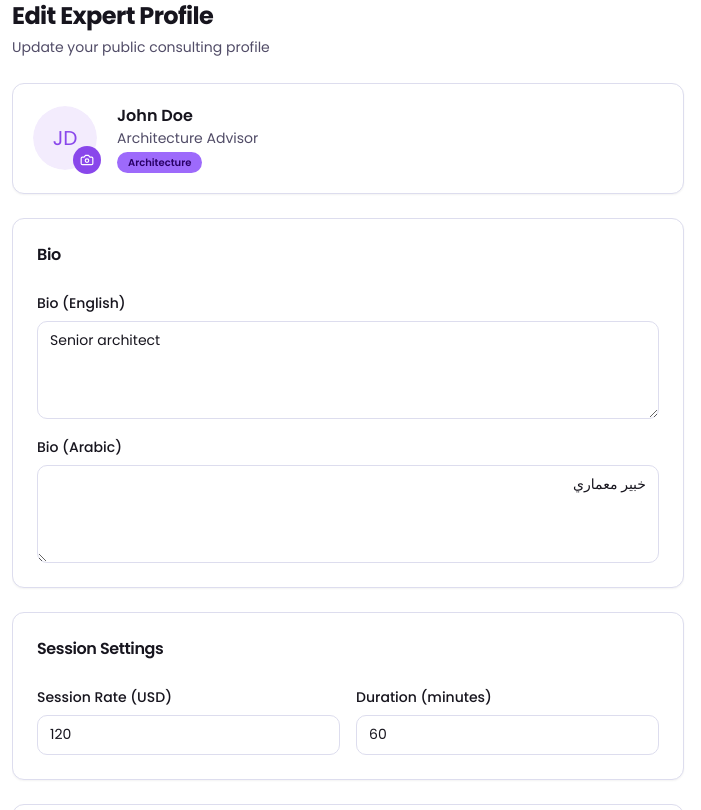
Scenario: Consulting profile and settings › renders expert profile form and triggers save after changes
Later steps or results of the test are not shown.
Expected: the heading "Edit Expert Profile" is shown, [12,0,213,32]
Replace the text in the text box labelled "Bio (English)" with "Principal architect and advisor": (348, 370) [37,321,659,419]
(page scrolled)
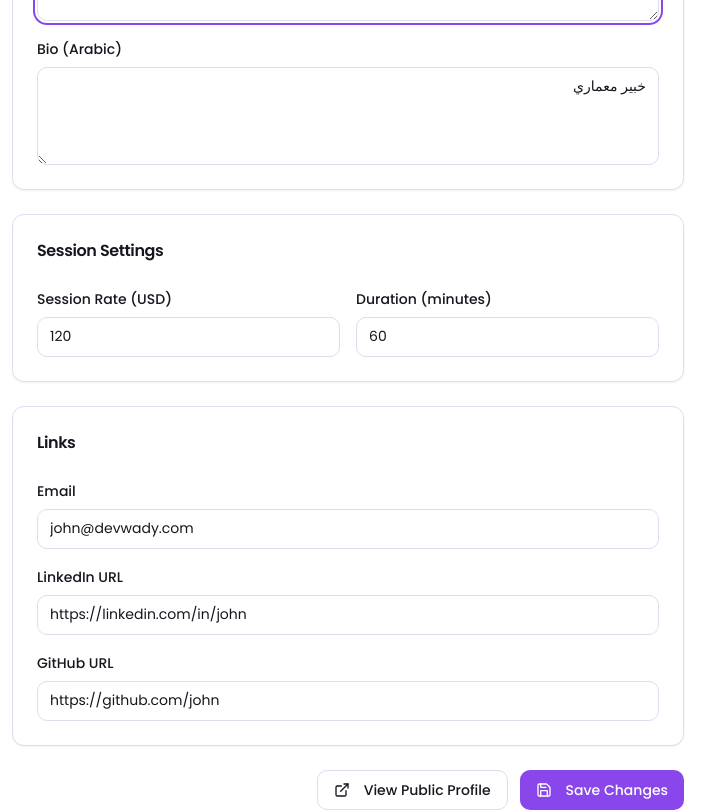
Result: the button "Save Changes" is enabled at [520,770,684,809]
